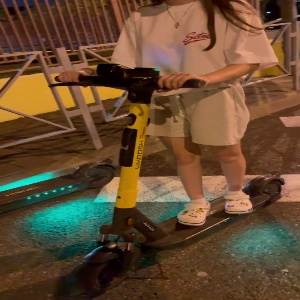human on a scooter: (47, 1, 287, 293)
